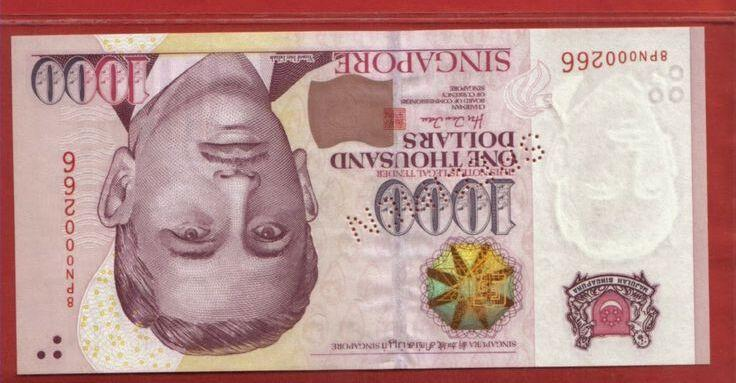1000SingaporeDollar: (16, 36, 704, 363)
